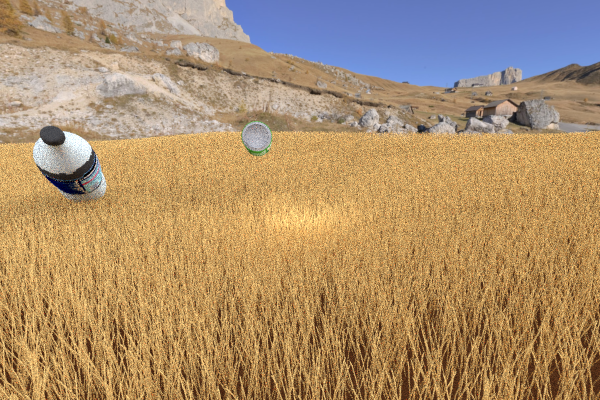Plastic Bottle: (32, 125, 106, 203), (374, 116, 472, 162), (241, 121, 272, 156)
